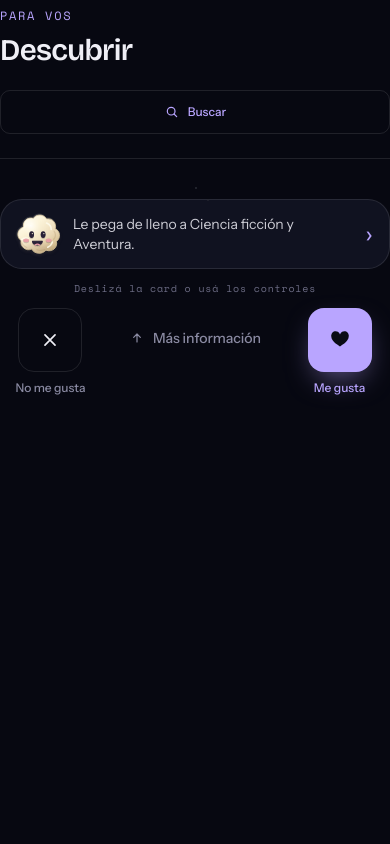
Test case: DiscoverScreen › says so when the assistant could not answer
The image size is (390, 844).
Click the button with aria-label "Abrir asistente de Buti sobre Dune desde el resumen".
click(195, 234)  # box x1=0 y1=198 x2=389 y2=268
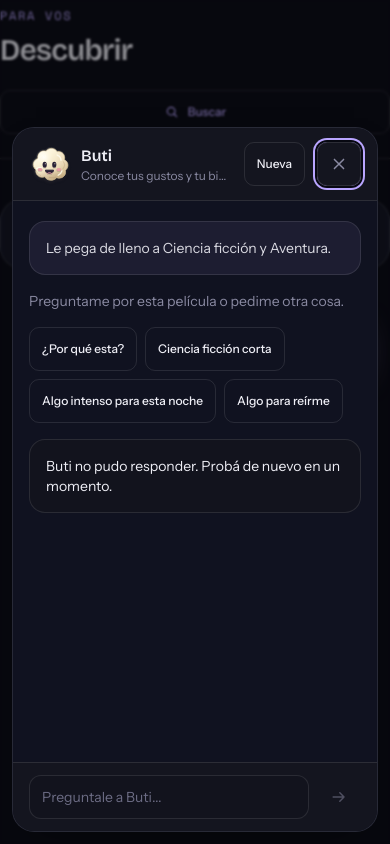
Result: the message shows "Buti no pudo responder" at x1=46 y1=457 x2=340 y2=495
